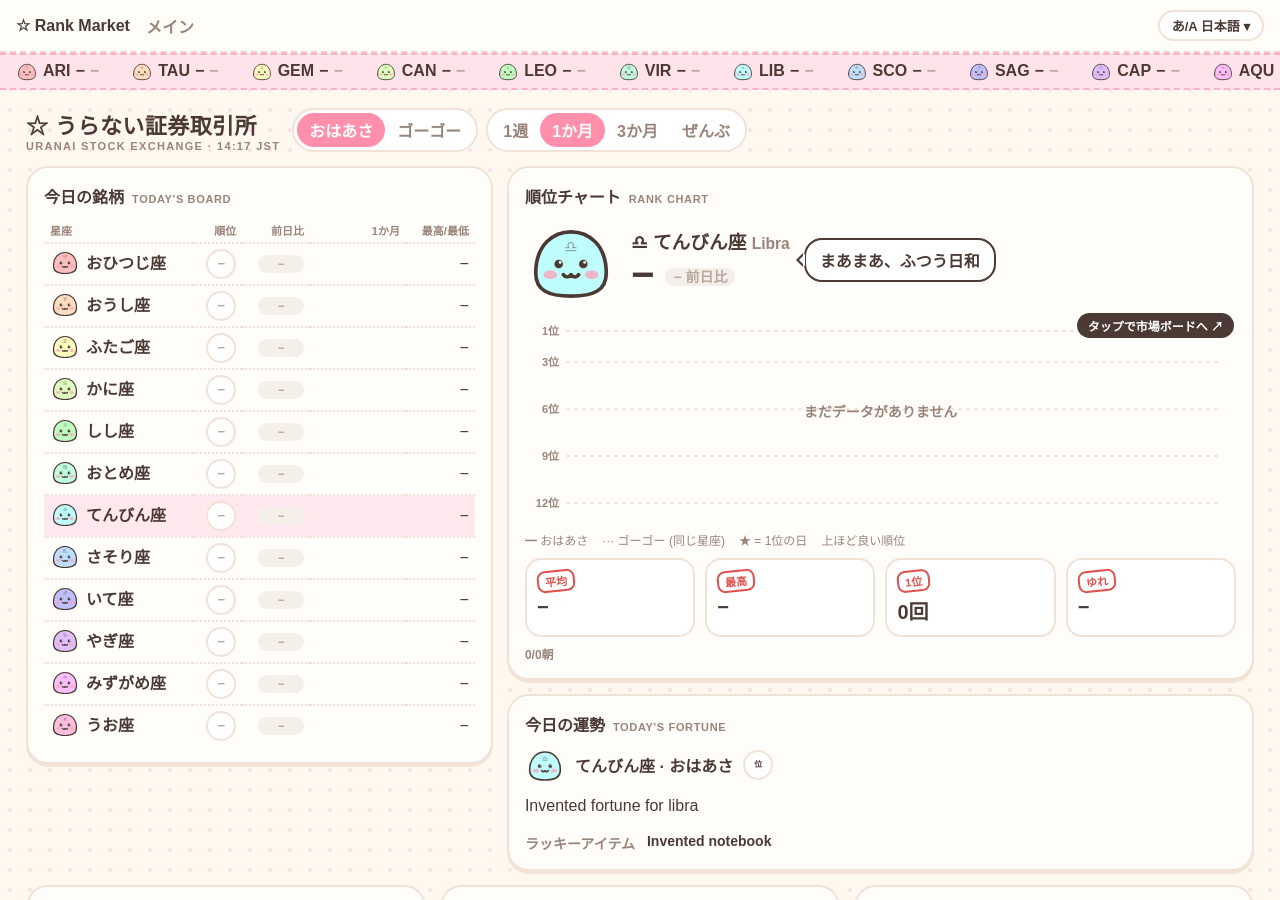
Test: MainView › selects a sign from the watchlist and mirrors it in the URL
Expected: the heading "♎︎ てんびん座 Libra" is shown, x1=631 y1=227 x2=790 y2=254
Click the button "♌︎ しし座". click: [92, 430]
box: x1=50 y1=416 x2=134 y2=444
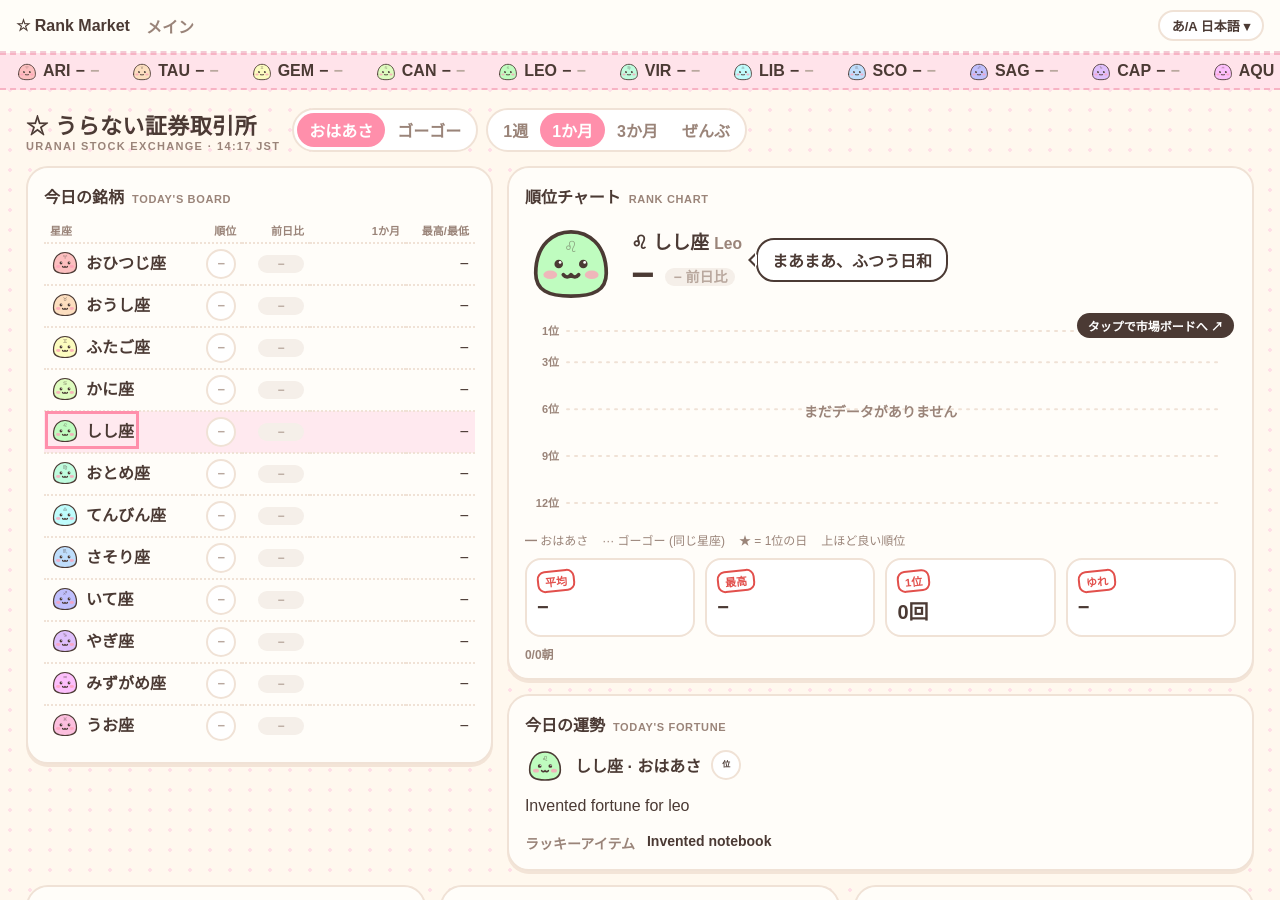
Now the heading "♌︎ しし座 Leo" is shown, box x1=631 y1=227 x2=742 y2=254
